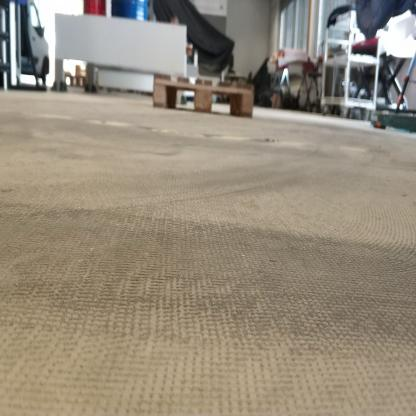BoxFace: (149, 68, 259, 123)
